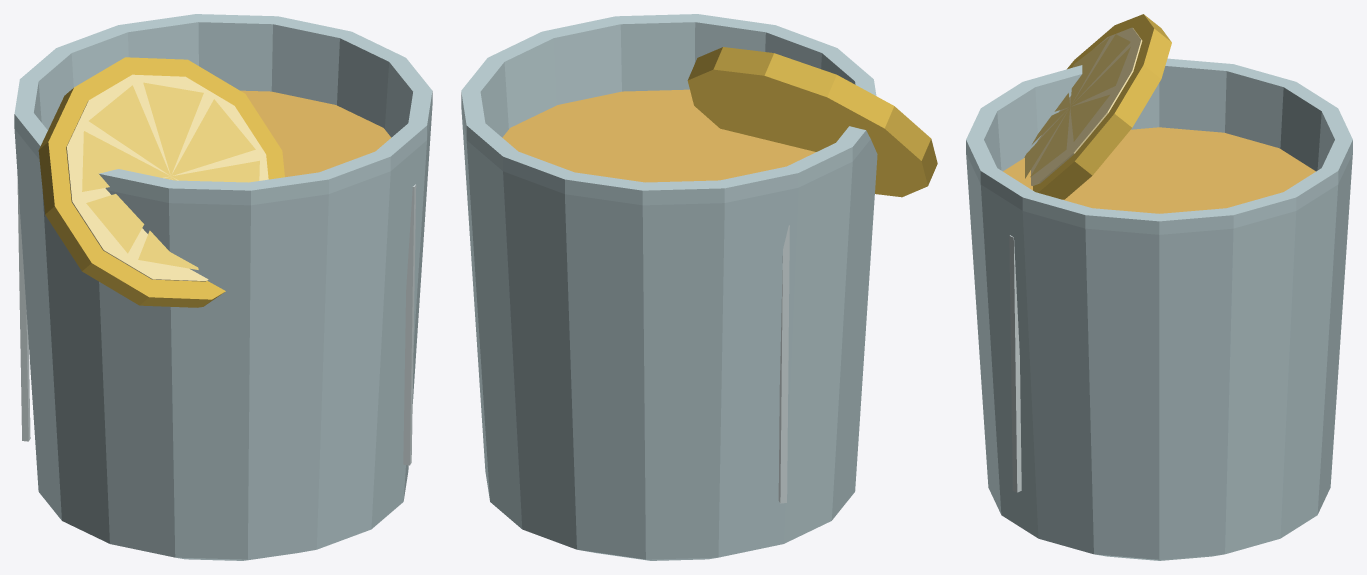
Rendered from drink_honey.glb.
3 views of the same model, side by side, from view 1: azimuth 30°, elevation 25°; view 2: azimuth 150°, elevation 25°; view 3: azimuth 270°, elevation 25° (orthographic). The views are drawn at different scales.
Parts seen in each view (by area): view 1: glass, food; view 2: glass, food; view 3: glass, food.
Boxes of the visible parts, x1,y1,x2,y2 form: glass: (14, 14, 432, 560); food: (17, 57, 416, 465); glass: (461, 14, 877, 560); food: (502, 47, 937, 503); glass: (966, 58, 1352, 560); food: (1003, 14, 1315, 492).
Size of the model in its own units: 0.283 by 0.3189 by 0.26.
